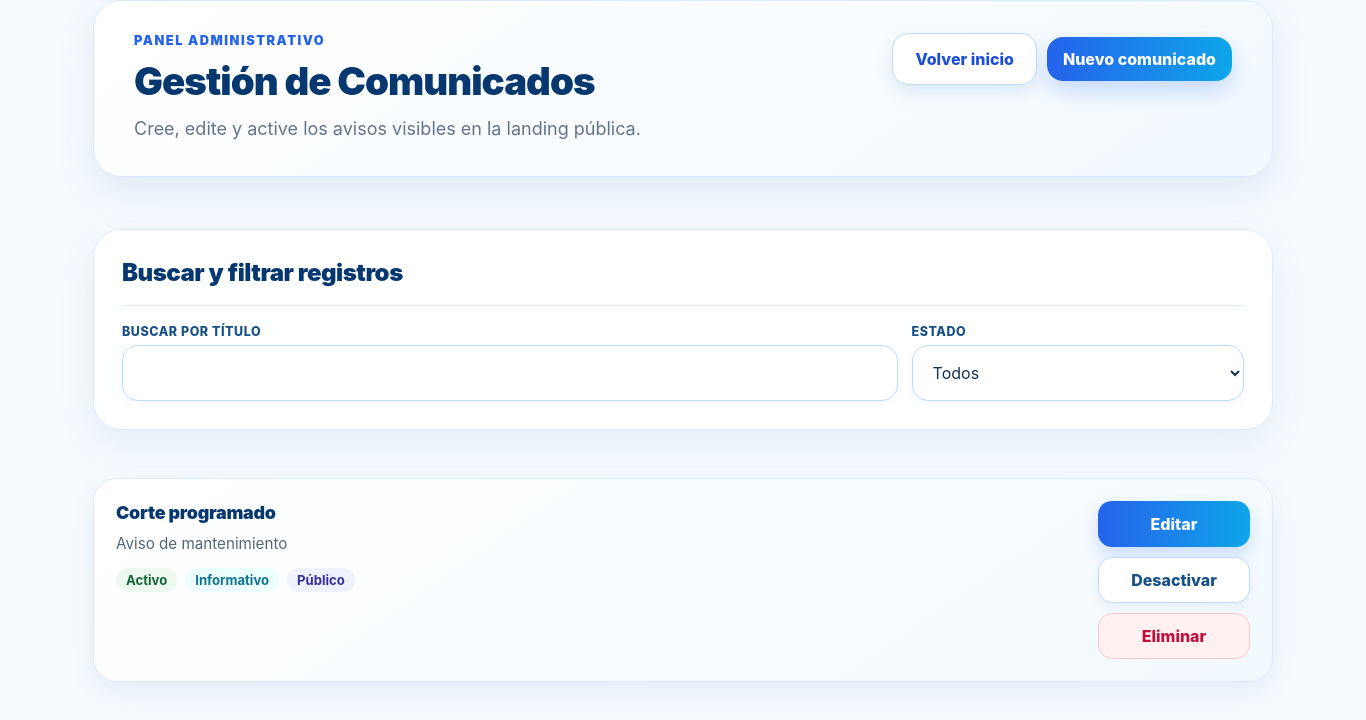
Test case: ComunicadosAdminPage (smoke) › renderiza listado y permite abrir el formulario de alta
Expected: the heading "Gestión de Comunicados" is shown, [134,58,641,104]
Click the button "Nuevo comunicado" at (1139, 59), box [1047,37,1232,81]
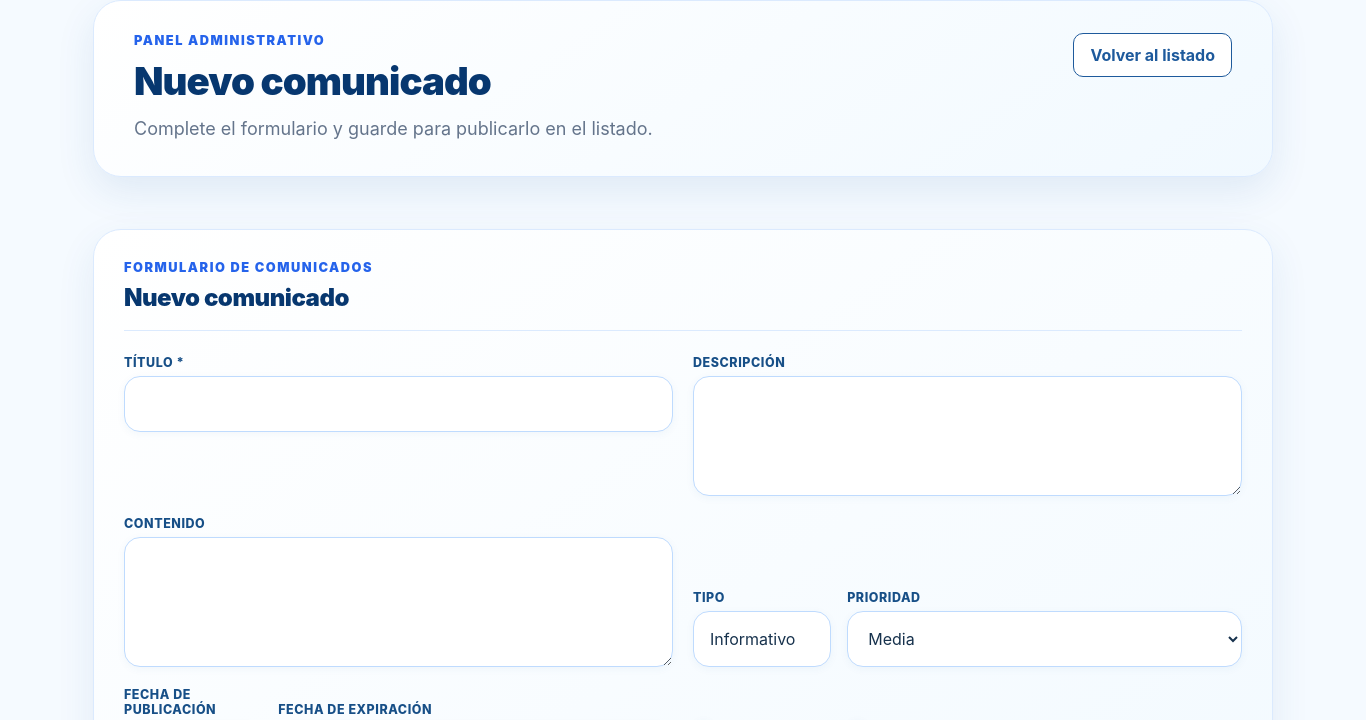
Result: the heading "Nuevo comunicado" below "Panel administrativo" is shown at [134,58,491,104]
Result: the text "Volver al listado" is shown at [1073,33,1232,77]
